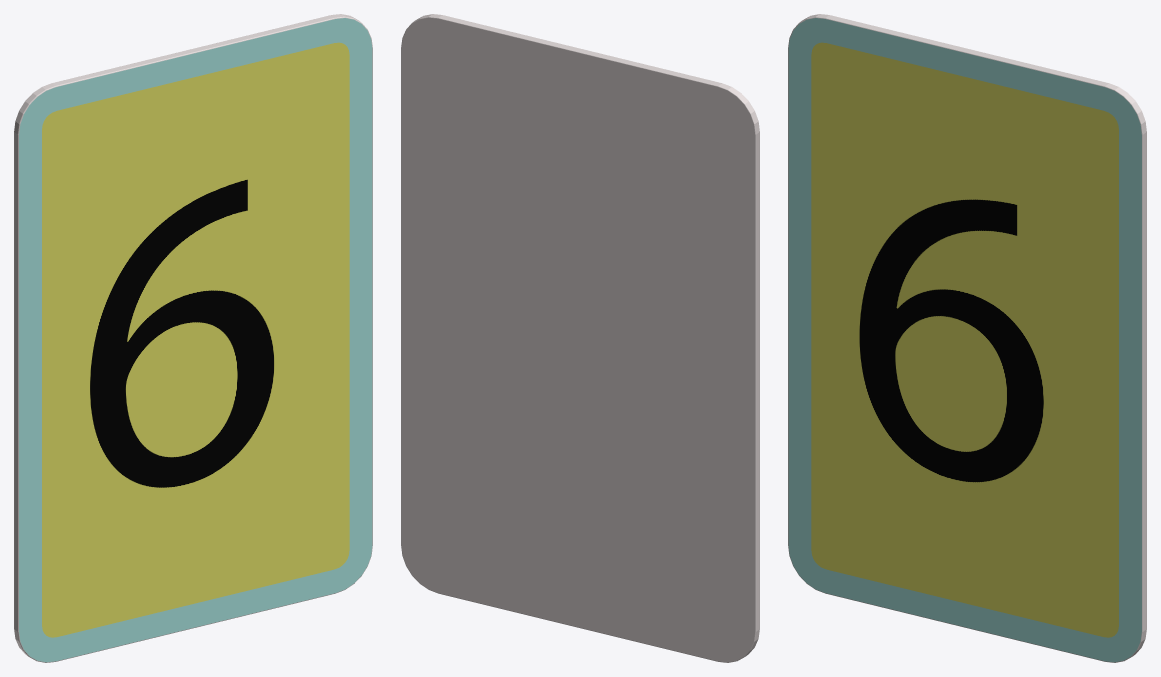
File: Diamonds_6.fbx
The picture shows the model from 3 angles, left to right: view 1: azimuth 30°, elevation 25°; view 2: azimuth 150°, elevation 25°; view 3: azimuth 330°, elevation 25°; orthographic projection.
Visible parts, largest first — view 1: jaune6; view 2: jaune6; view 3: jaune6.
Part boxes in pixels (x1,y1,x2,y2): jaune6: [14, 14, 372, 662]; jaune6: [401, 14, 759, 662]; jaune6: [788, 14, 1146, 662].
Bounding box in the file's own units: 200 × 310 × 4.34.
Materials: 3 (1 with a texture image).
